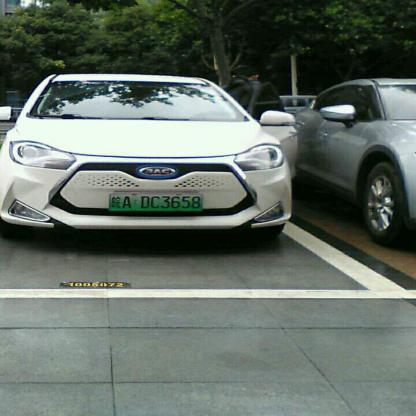lp: (109, 193, 202, 210)
